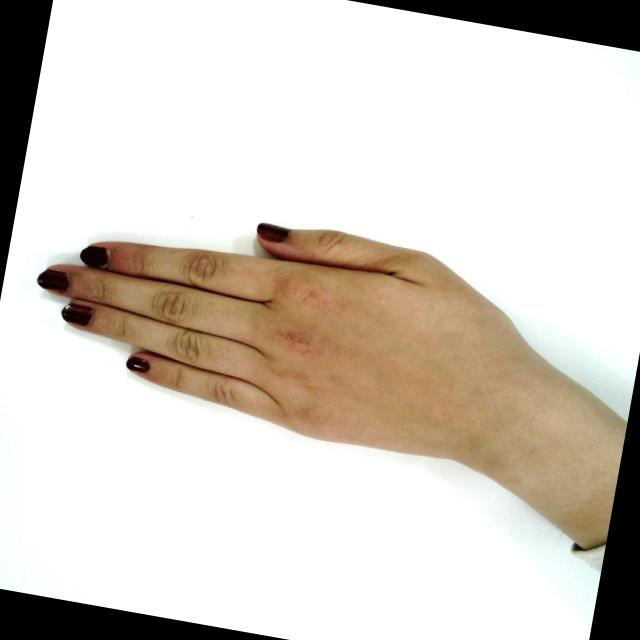Nail: (35, 268, 67, 291), (59, 303, 91, 326), (255, 222, 289, 242), (78, 245, 106, 268), (124, 356, 148, 373)
